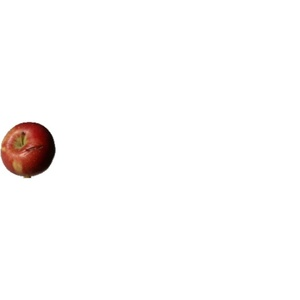maçã braeburn: (3, 117, 56, 176)
